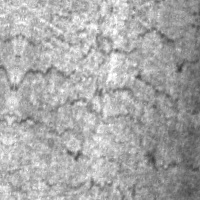crazing: (9, 59, 176, 149), (30, 1, 199, 79), (34, 141, 155, 199), (136, 120, 199, 179)
